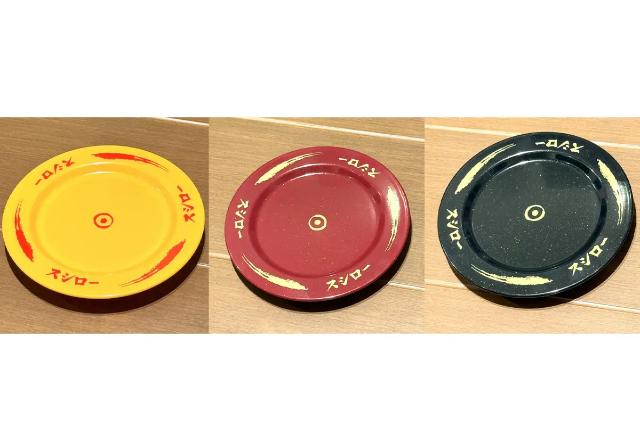janback: (459, 134, 599, 306)
jangold: (1, 150, 208, 296)
janred: (231, 128, 410, 310)
